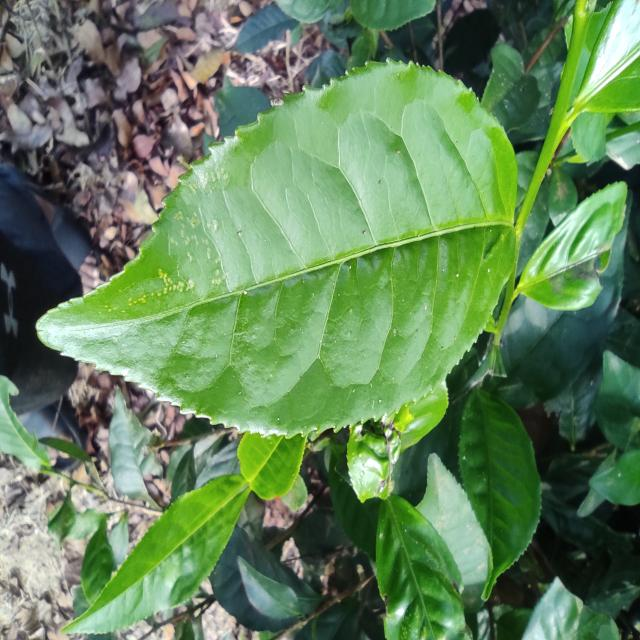Category D(7+ days, Not for Tea): (30, 31, 527, 466)
